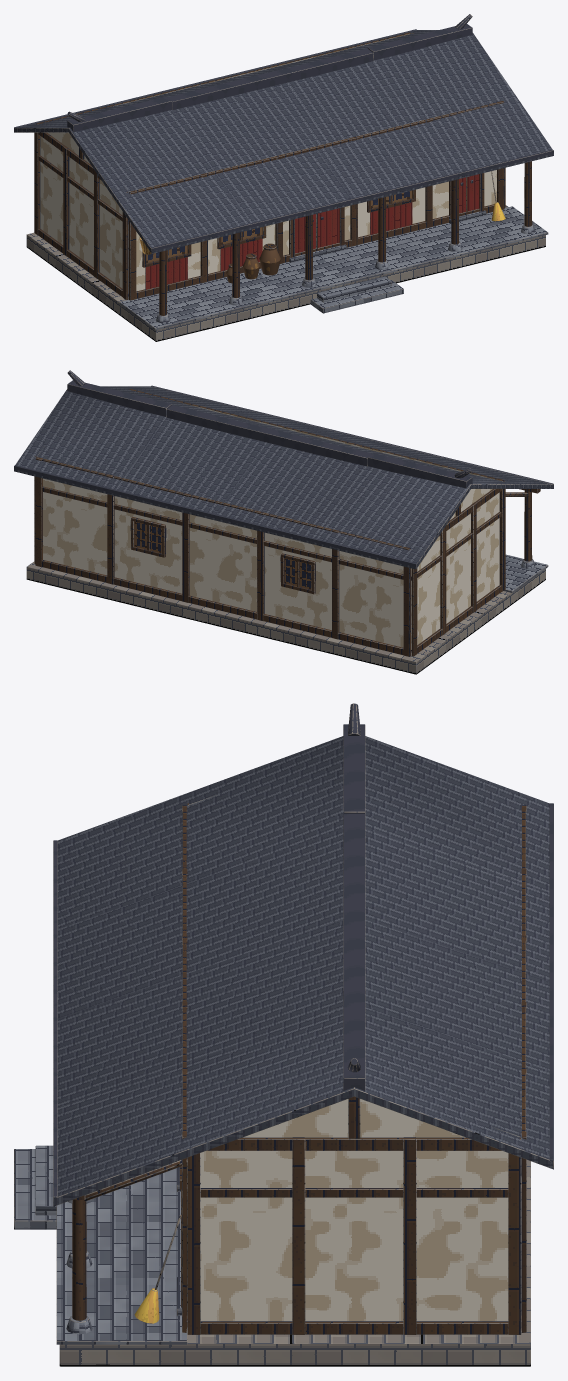
Rendered from cn_timber_house_2.glb.
3 renders of one model, top to bottom at view 1: azimuth 30°, elevation 25°; view 2: azimuth 150°, elevation 25°; view 3: azimuth 270°, elevation 25°, orthographic. The views are drawn at different scales.
Visible parts, largest first — view 1: cn_timber_house_3; view 2: cn_timber_house_3; view 3: cn_timber_house_3.
Part boxes in pixels (left/top/right/bottom): cn_timber_house_3: left=14, top=14, right=553, bottom=341; cn_timber_house_3: left=14, top=370, right=553, bottom=674; cn_timber_house_3: left=14, top=703, right=553, bottom=1366.
Bounding box in the file's own units: 12.96 × 5.27 × 8.25.
16 materials, 16 textured.
